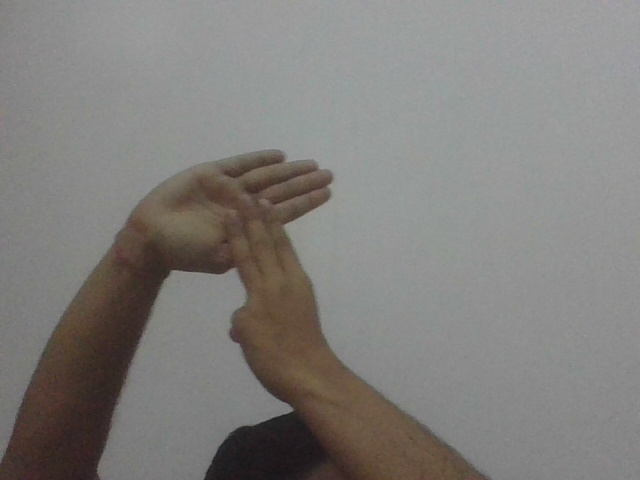M: (152, 146, 352, 316)
